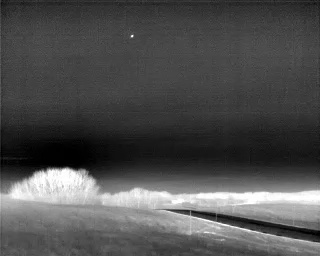BIRD: (128, 31, 136, 41)
